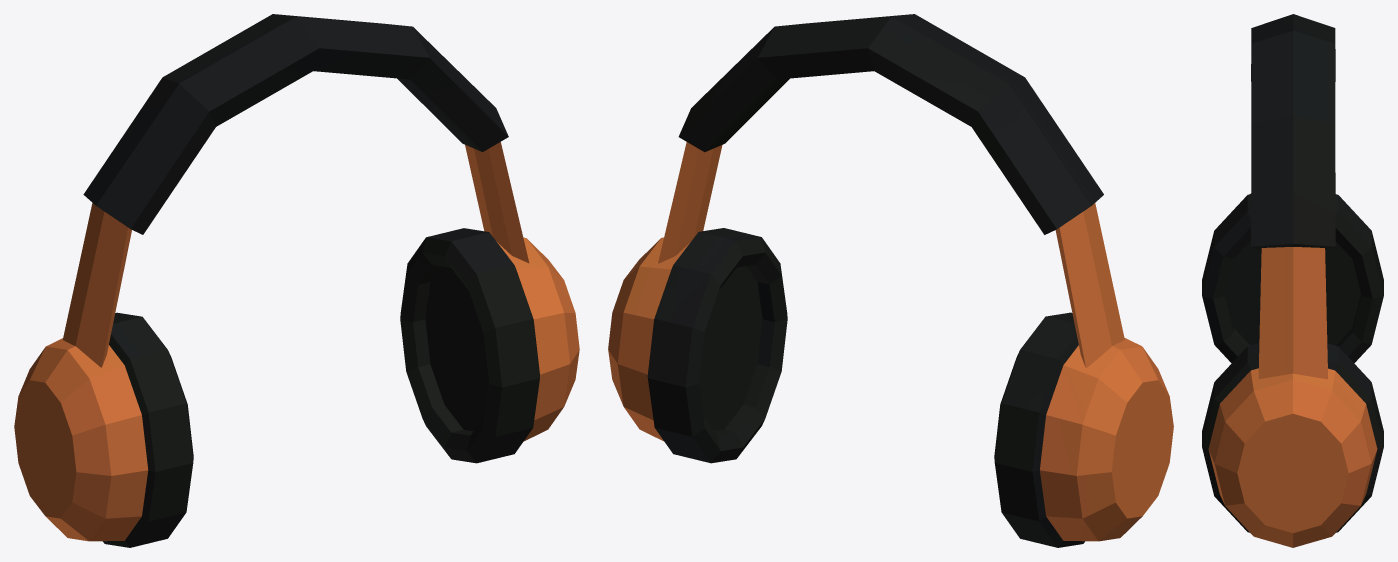
Rendered from horlurar.glb.
3 views of the same model, side by side, from view 1: azimuth 30°, elevation 25°; view 2: azimuth 150°, elevation 25°; view 3: azimuth 270°, elevation 25° (orthographic). The views are drawn at different scales.
Parts seen in each view (by area): view 1: Headphones; view 2: Headphones; view 3: Headphones.
Boxes of the visible parts, box(x1,y1,x2,y2) form: Headphones: box(14, 14, 579, 547); Headphones: box(608, 14, 1173, 547); Headphones: box(1202, 14, 1383, 547).
Bounding box in the file's own units: 0.1331 × 0.1214 × 0.0465.
1 material, 1 textured.
